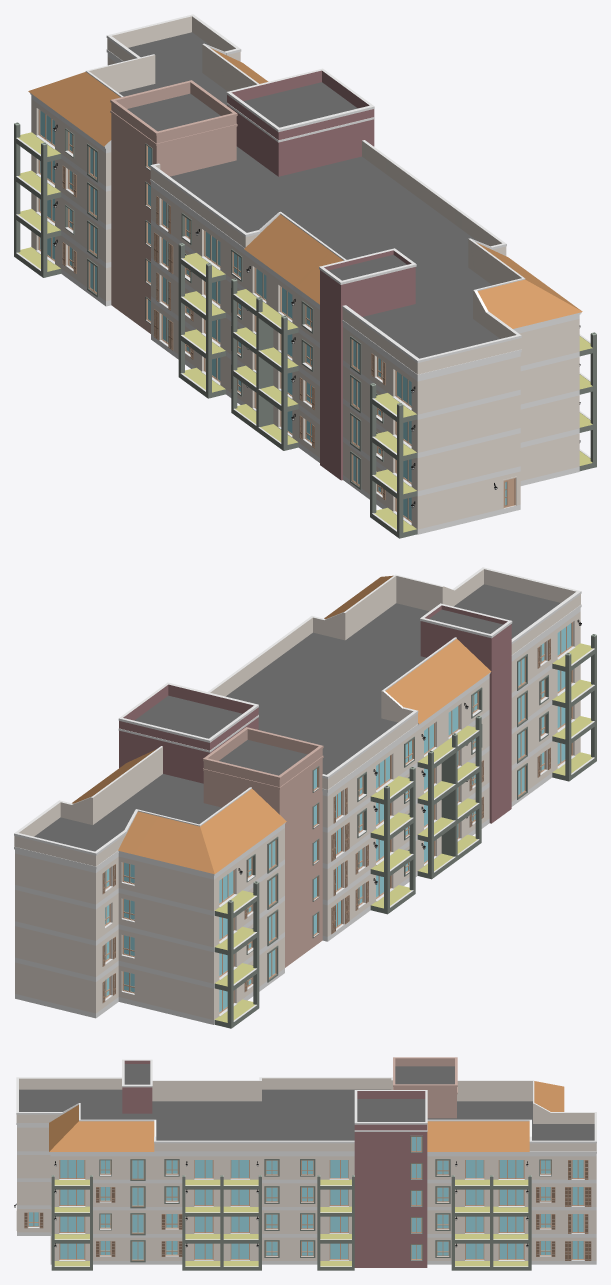
Rendered from plot03.fbx.
The picture shows the model from 3 angles, top to bottom: view 1: azimuth 30°, elevation 25°; view 2: azimuth 150°, elevation 25°; view 3: azimuth 270°, elevation 25°; orthographic projection. The views are drawn at different scales.
Visible parts, largest first — view 1: plot03_walls, plot03_windows, plot03_windowsill, plot03_shutters; view 2: plot03_walls, plot03_windows, plot03_windowsill, plot03_shutters; view 3: plot03_walls, plot03_windows, plot03_windowsill, plot03_shutters.
Boxes of the visible parts, x1=… form: plot03_walls: x1=14, y1=14, x2=596, y2=538; plot03_windows: x1=38, y1=109, x2=515, y2=522; plot03_windowsill: x1=16, y1=135, x2=590, y2=531; plot03_shutters: x1=62, y1=166, x2=385, y2=500; plot03_walls: x1=14, y1=567, x2=596, y2=1028; plot03_windows: x1=105, y1=622, x2=572, y2=1013; plot03_windowsill: x1=105, y1=646, x2=594, y2=1021; plot03_shutters: x1=102, y1=638, x2=550, y2=1002; plot03_walls: x1=16, y1=1057, x2=596, y2=1270; plot03_windows: x1=28, y1=1136, x2=584, y2=1260; plot03_windowsill: x1=28, y1=1152, x2=584, y2=1266; plot03_shutters: x1=24, y1=1160, x2=591, y2=1260.
Bounding box in the file's own units: 2246 × 1985 × 7232.
